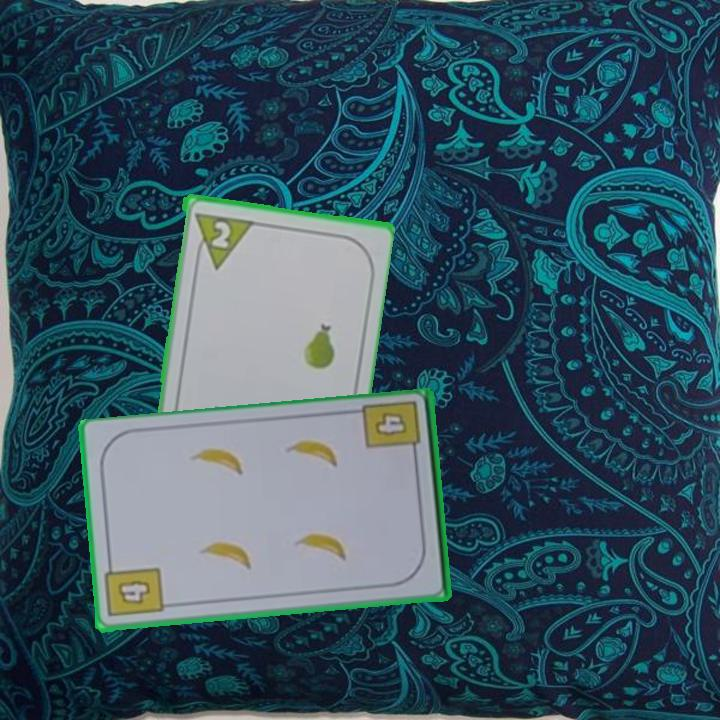2p: (190, 208, 253, 271)
4b: (360, 397, 424, 463), (102, 558, 167, 620)
